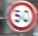Speed Limit -50-: (0, 0, 37, 35)
